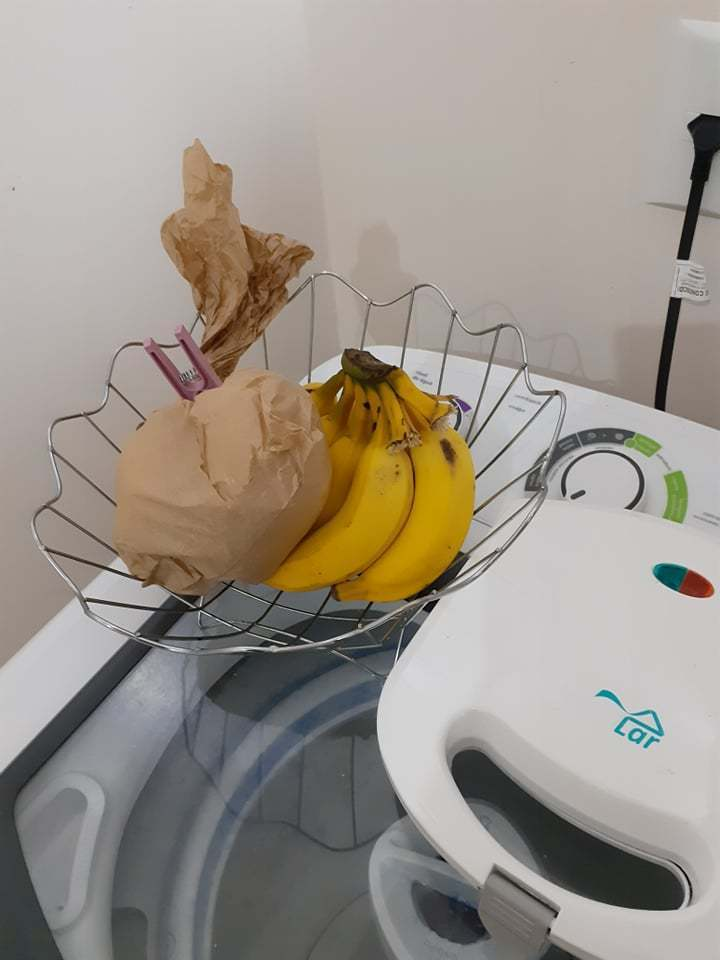banana: (261, 343, 482, 603)
